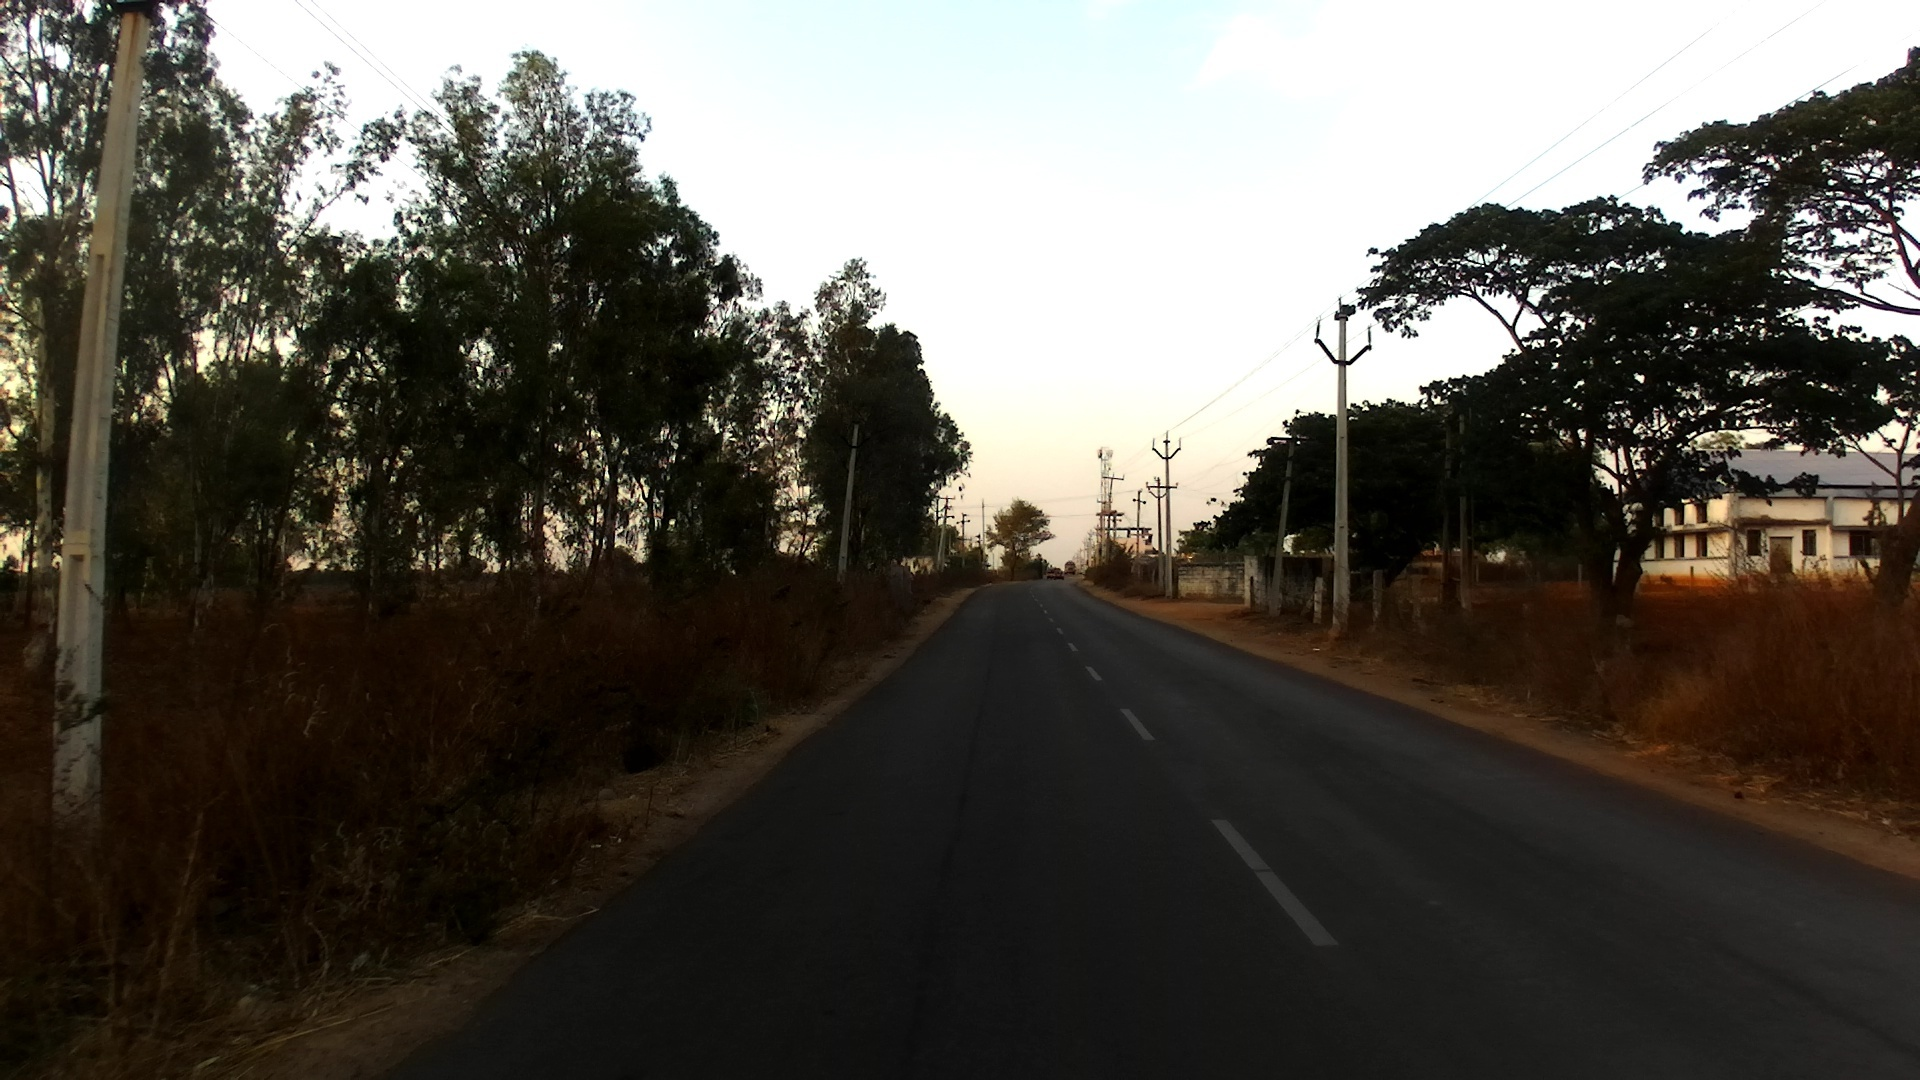autorickshaw: (1044, 568, 1056, 579), (1056, 568, 1065, 582)
truck: (1062, 560, 1077, 578)
